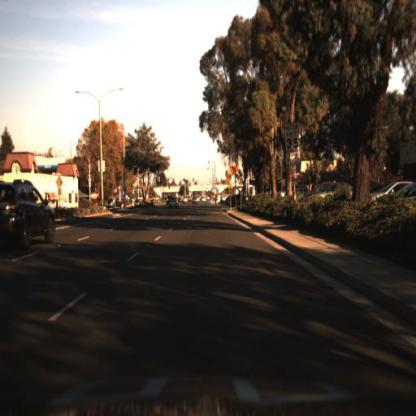car: (1, 175, 60, 258), (308, 183, 357, 207), (315, 185, 362, 207), (168, 199, 180, 215), (107, 197, 118, 213), (169, 196, 179, 212)
